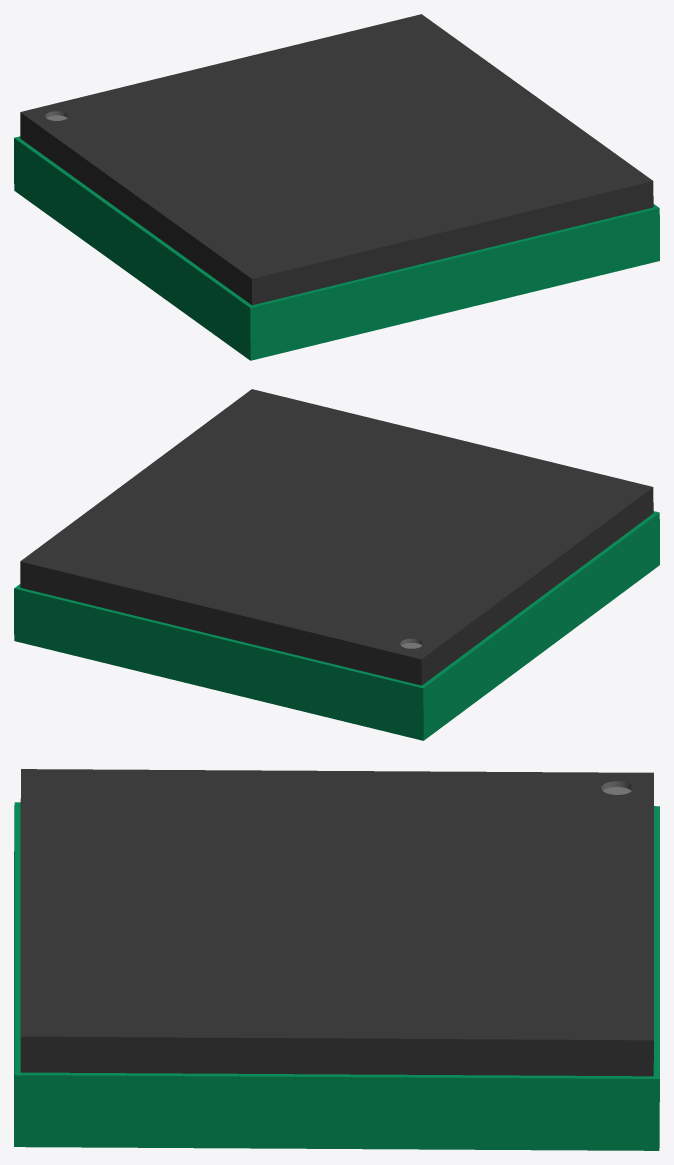
File: TFBGA64.gltf
3 views of the same model, one above another, from view 1: azimuth 30°, elevation 25°; view 2: azimuth 150°, elevation 25°; view 3: azimuth 270°, elevation 25° (orthographic). The views are drawn at different scales.
Visible parts, largest first — view 1: BGA64C50P8X8_497X500X120N; view 2: BGA64C50P8X8_497X500X120N; view 3: BGA64C50P8X8_497X500X120N.
Part boxes in pixels (left/top/right/bottom): BGA64C50P8X8_497X500X120N: left=14, top=14, right=659, bottom=360; BGA64C50P8X8_497X500X120N: left=14, top=389, right=659, bottom=740; BGA64C50P8X8_497X500X120N: left=14, top=769, right=659, bottom=1150.
Size of the model in its own units: 0.00515 by 0.00123 by 0.00515.
